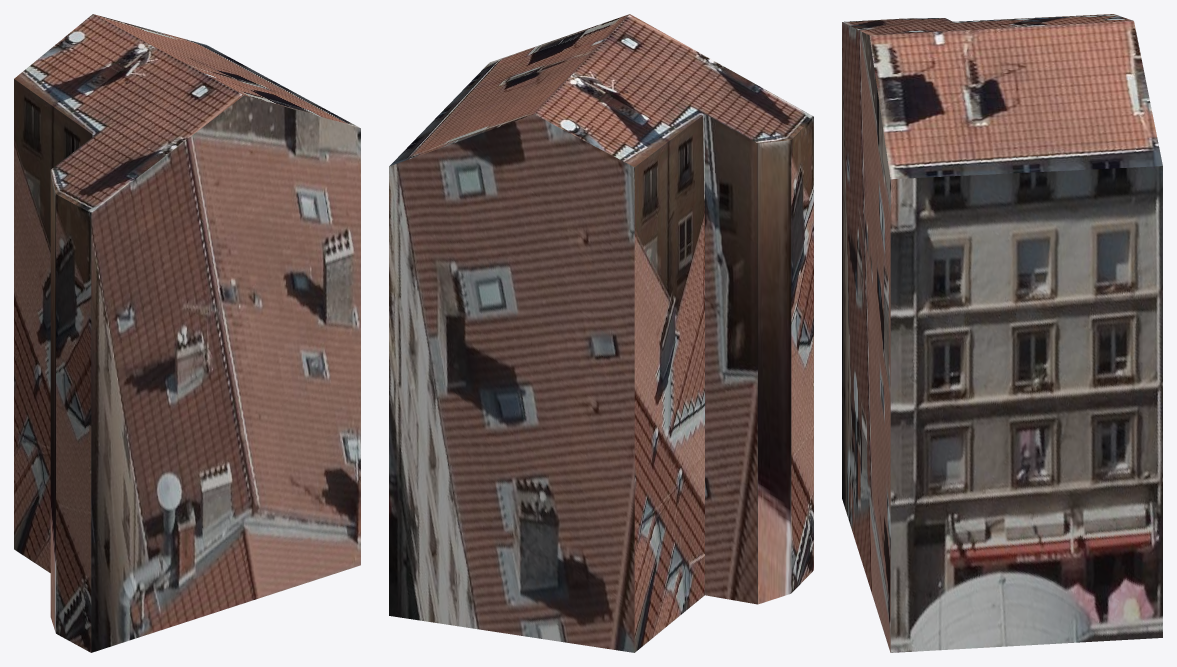
The picture shows the model from 3 angles, left to right: view 1: azimuth 30°, elevation 25°; view 2: azimuth 150°, elevation 25°; view 3: azimuth 270°, elevation 25°; orthographic projection. The views are drawn at different scales.
Parts seen in each view (by area): view 1: Z_UP; view 2: Z_UP; view 3: Z_UP.
Boxes of the visible parts, x1,y1,x2,y2 form: Z_UP: (14,14,360,652); Z_UP: (389,14,813,652); Z_UP: (842,14,1162,652).
Bounding box in the file's own units: 12.74 × 20.69 × 10.93.
2 materials, 1 textured.
